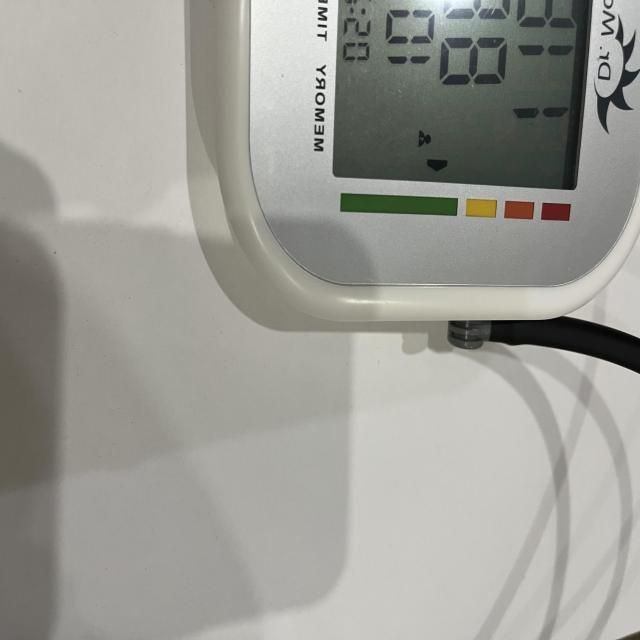bp: (187, 0, 640, 333)
